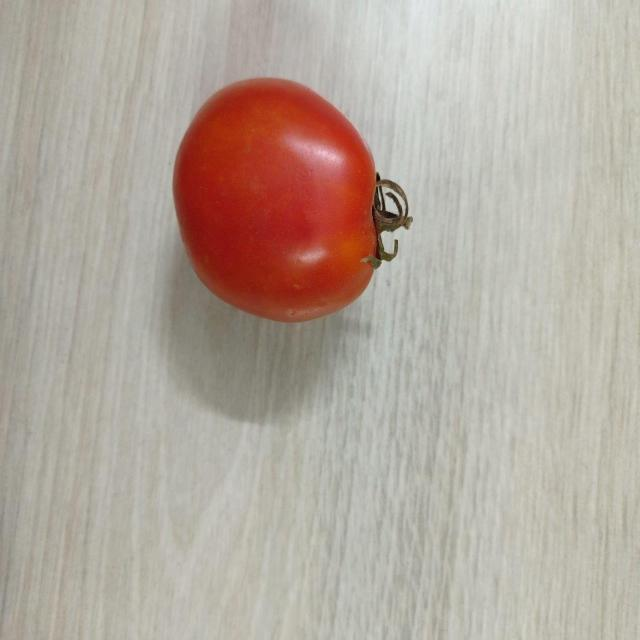Tomato: (170, 72, 418, 329)
